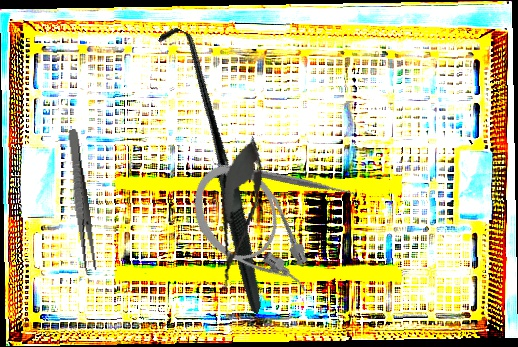Cannula: (176, 148, 329, 321)
Dressing Forceps: (64, 128, 98, 272)
Hook Surgical: (69, 22, 355, 315)
Micro Scissor: (204, 132, 271, 298)
Spatula Surgical: (209, 104, 359, 253)
